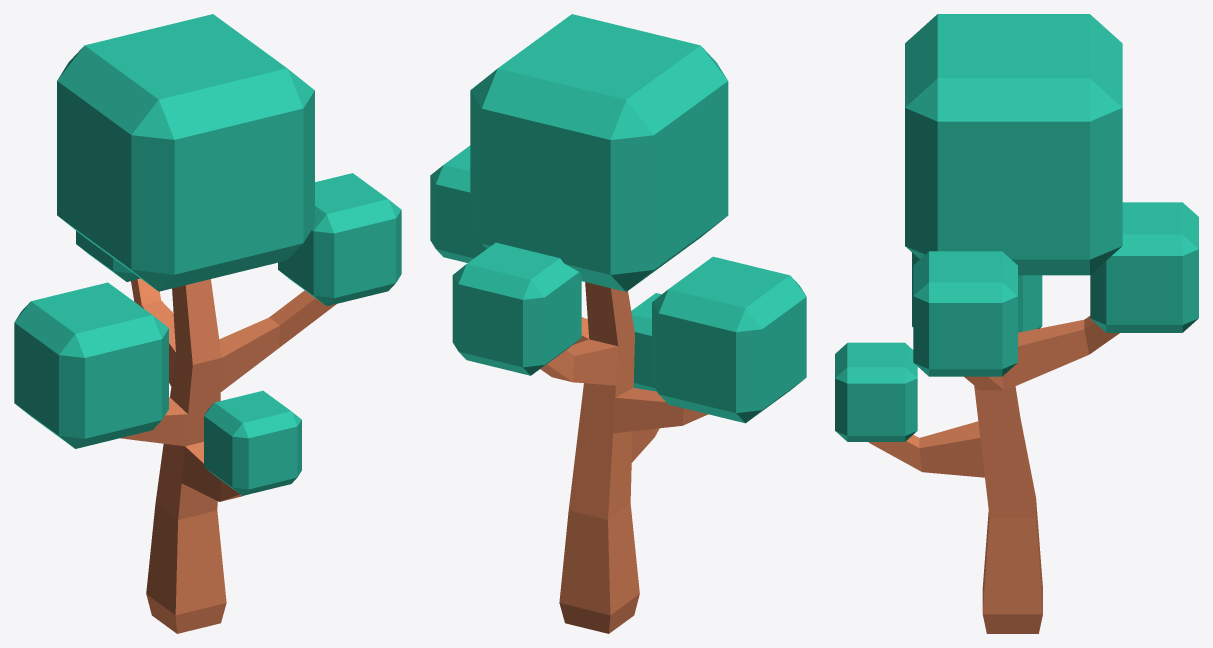
The model's file is tree_detailed.obj.
3 views of the same model, side by side, from view 1: azimuth 30°, elevation 25°; view 2: azimuth 150°, elevation 25°; view 3: azimuth 270°, elevation 25° (orthographic). The views are drawn at different scales.
Parts seen in each view (by area): view 1: tree_detailed; view 2: tree_detailed; view 3: tree_detailed.
Boxes of the visible parts, box(x1,y1,x2,y2) form: tree_detailed: box(14, 14, 401, 633); tree_detailed: box(430, 14, 806, 633); tree_detailed: box(835, 14, 1198, 633).
Bounding box in the file's own units: 0.8471 × 1.33 × 0.7616.
